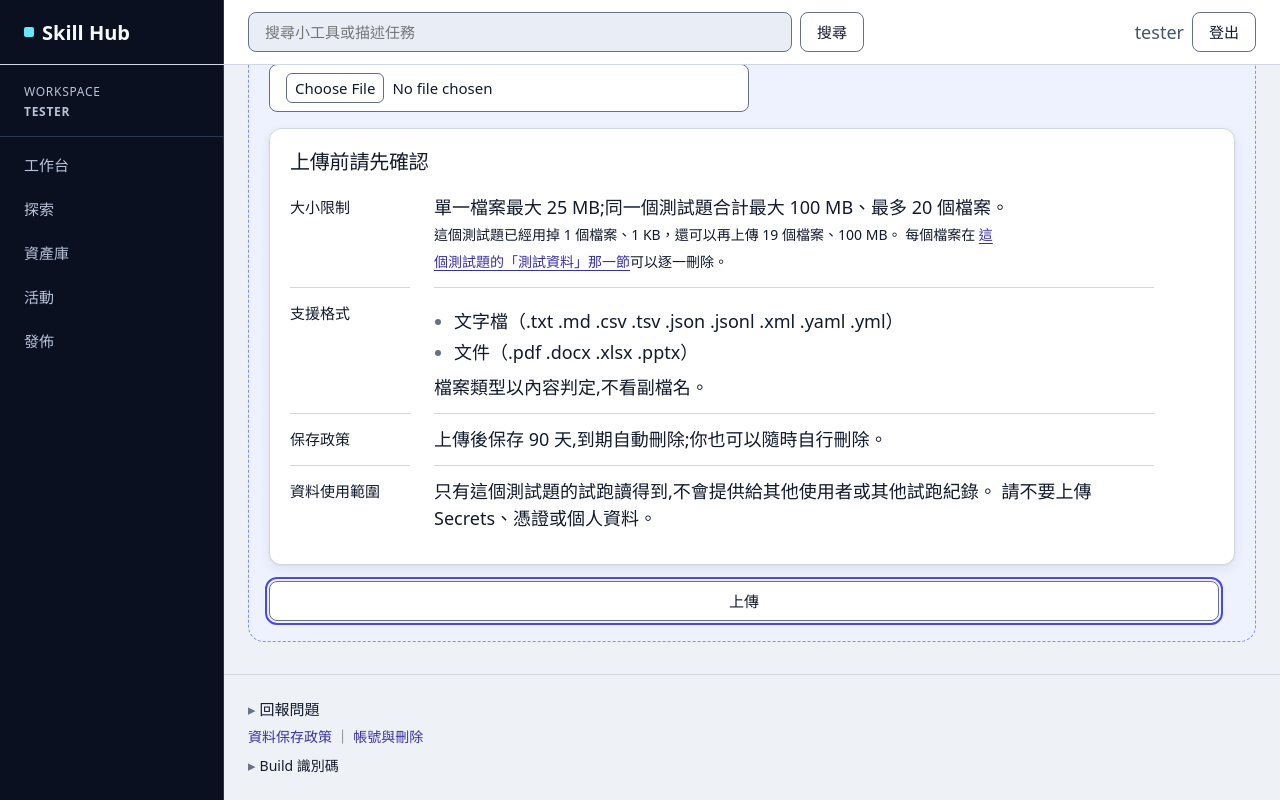
Test case: NFR-007: 沒選檔案就按上傳，說的是下一步而不是錯誤碼
(page scrolled)
Click the button "上傳" at (744, 600), box [269,580,1219,620]
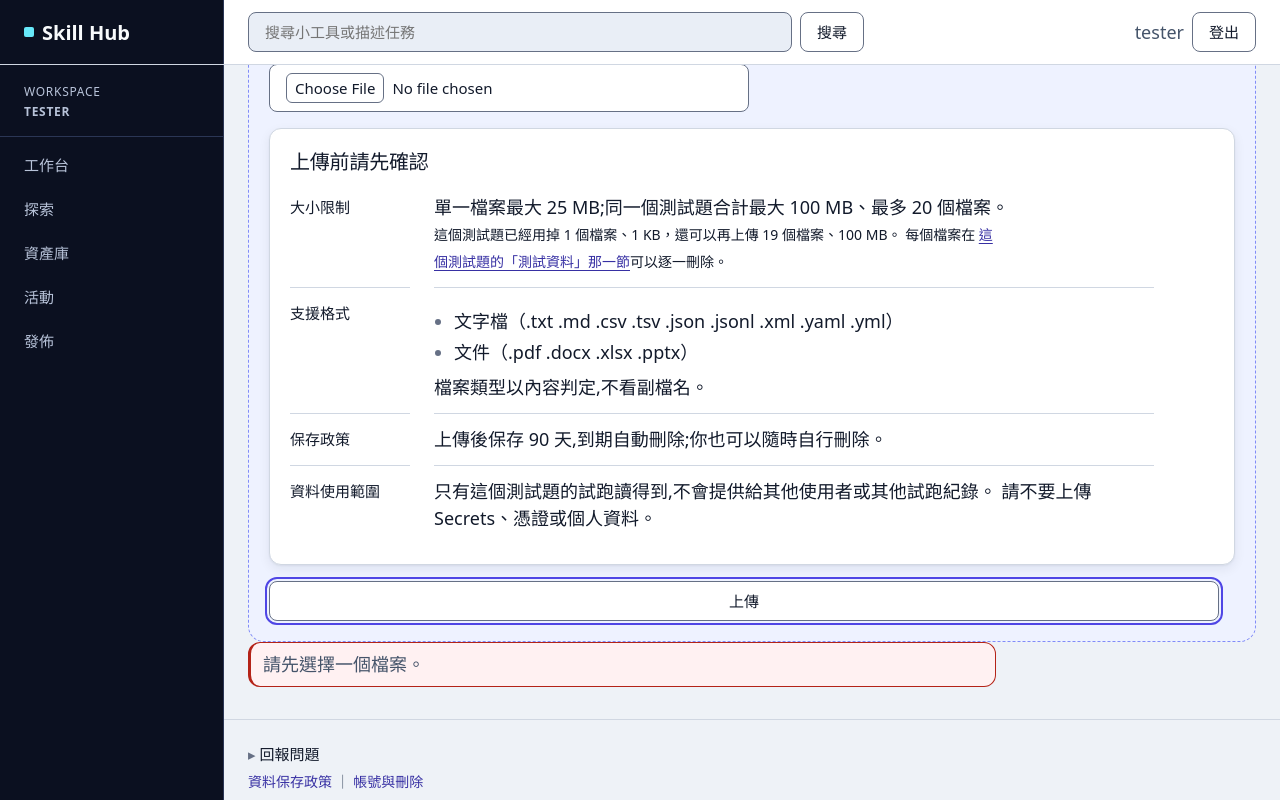
Check: the message "請先選擇一個檔案。" is shown, box [248,642,996,686]
